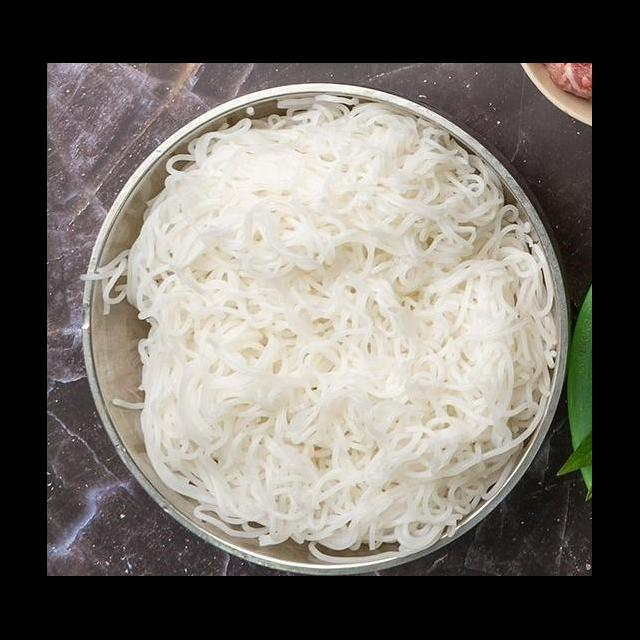bun: (74, 88, 564, 572)
